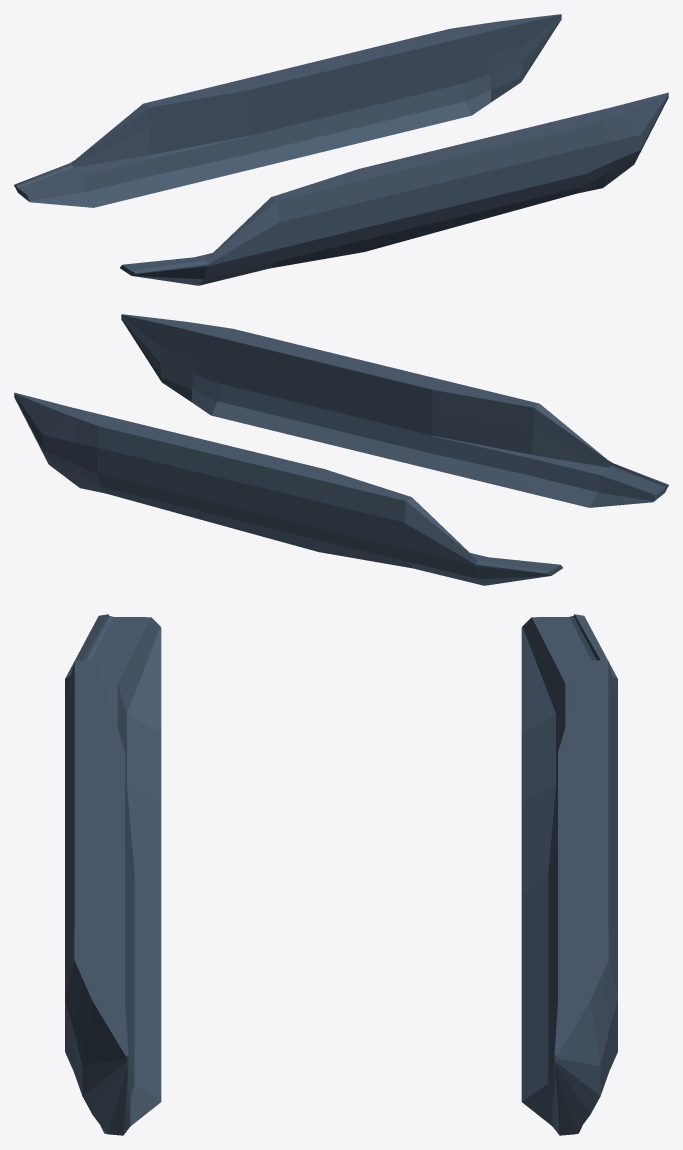
The picture shows the model from 3 angles, top to bottom: view 1: azimuth 30°, elevation 25°; view 2: azimuth 150°, elevation 25°; view 3: azimuth 270°, elevation 25°; orthographic projection. The views are drawn at different scales.
Visible parts, largest first — view 1: 立方体.003, 立方体.015; view 2: 立方体.015, 立方体.003; view 3: 立方体.015, 立方体.003.
Boxes of the visible parts, box(x1,y1,x2,y2) form: 立方体.003: box(14, 14, 561, 207); 立方体.015: box(120, 92, 668, 285); 立方体.015: box(121, 314, 668, 507); 立方体.003: box(14, 392, 562, 585); 立方体.015: box(65, 614, 161, 1135); 立方体.003: box(521, 614, 617, 1135).
Bounding box in the file's own units: 8.26 × 1.15 × 3.66.
